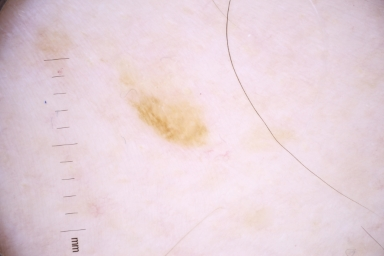nevus: (129, 92, 211, 148)
